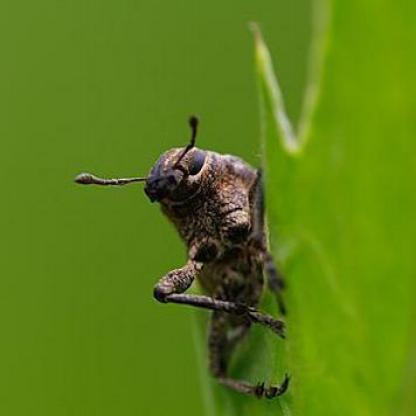rice-bug: (135, 142, 287, 396)
